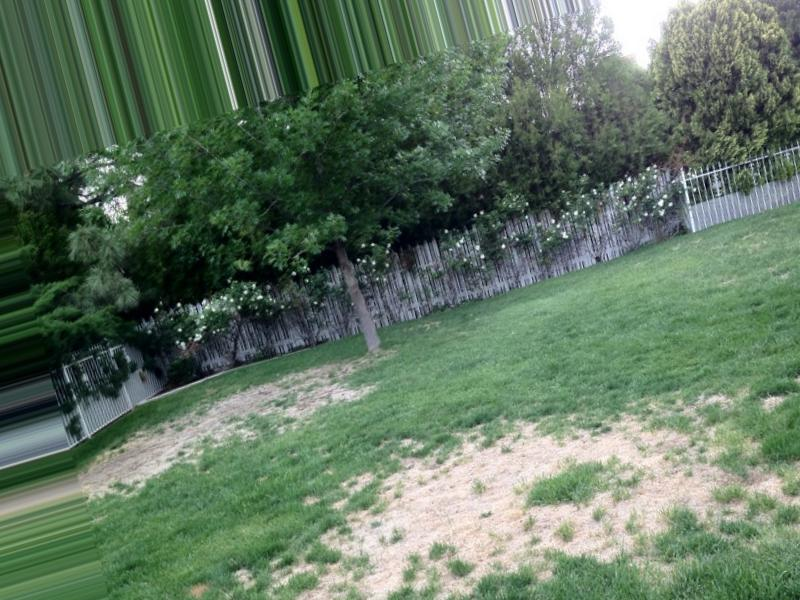patch: (436, 469, 534, 561), (627, 445, 704, 486), (563, 519, 643, 558), (371, 499, 410, 557), (239, 387, 301, 420), (127, 442, 187, 475), (587, 431, 640, 461), (642, 501, 671, 511), (536, 445, 566, 454)
